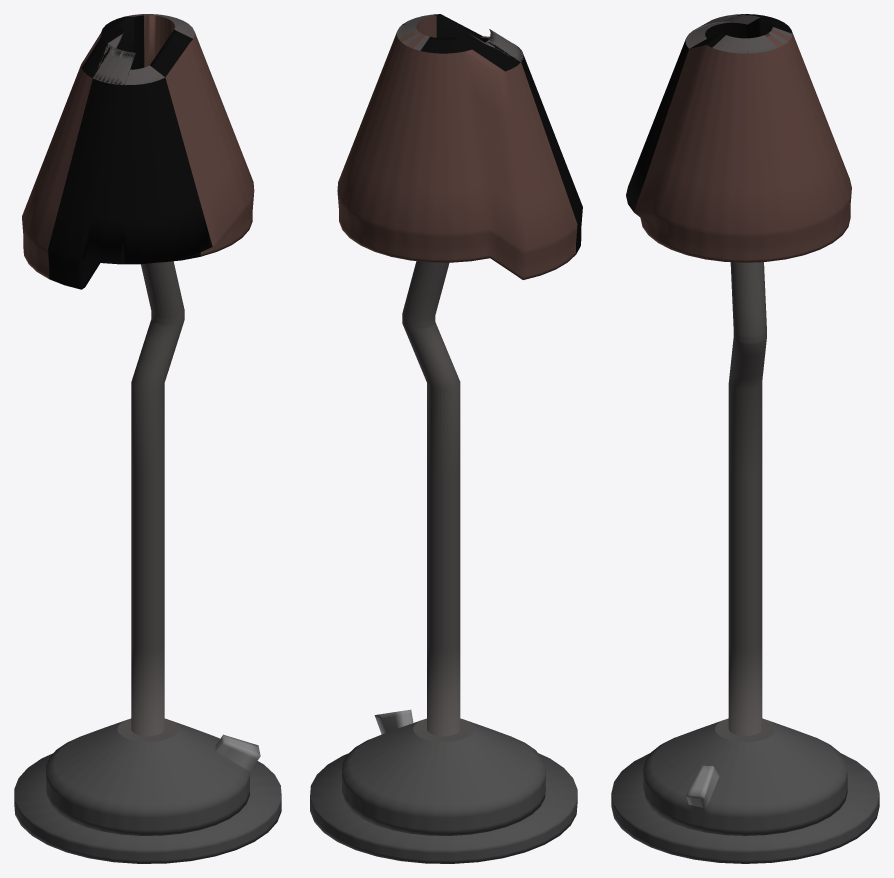
Rendered from PRP_Lamp.fbx.
3 renders of one model, left to right at view 1: azimuth 30°, elevation 25°; view 2: azimuth 150°, elevation 25°; view 3: azimuth 270°, elevation 25°, orthographic.
Parts seen in each view (by area): view 1: Sphere; view 2: Sphere; view 3: Sphere.
Part boxes in pixels (box(x1,y1,x2,y2)): Sphere: box(14, 14, 281, 863); Sphere: box(310, 14, 582, 863); Sphere: box(611, 14, 879, 863).
Bounding box in the file's own units: 2.48 × 7.89 × 2.45.
